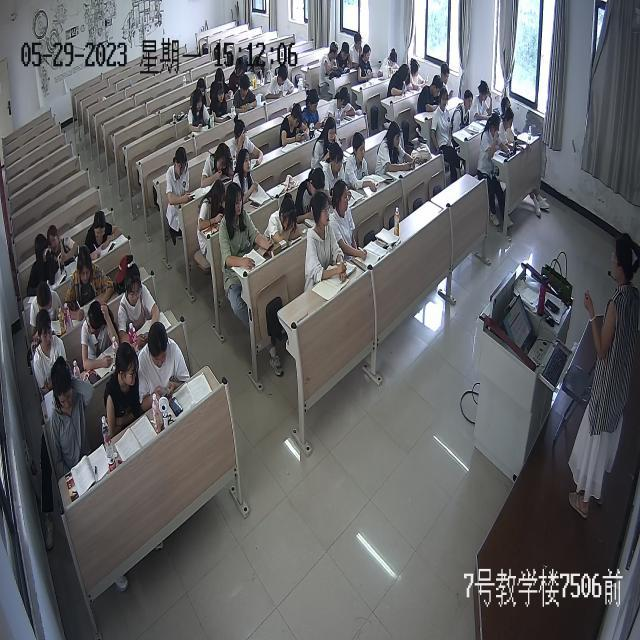distracted: (47, 361, 97, 470), (105, 342, 141, 438), (82, 301, 120, 371), (27, 234, 61, 292), (318, 42, 340, 80), (334, 40, 354, 77)
focused: (305, 193, 349, 283), (63, 248, 117, 319), (116, 262, 162, 342), (32, 313, 71, 393), (328, 182, 366, 260), (227, 117, 266, 171), (28, 284, 66, 336), (299, 166, 332, 223), (84, 210, 123, 254), (346, 134, 376, 191), (233, 150, 263, 204), (198, 180, 228, 233), (322, 146, 350, 200), (313, 116, 341, 170), (414, 73, 446, 114), (431, 89, 454, 144), (264, 66, 296, 101), (231, 79, 261, 115), (210, 82, 235, 124), (482, 114, 507, 156), (449, 88, 475, 126), (473, 81, 495, 122), (498, 109, 518, 152), (387, 63, 411, 96), (379, 47, 401, 81), (358, 44, 377, 82), (438, 62, 456, 102), (349, 31, 366, 68), (248, 58, 268, 88), (230, 58, 248, 87)
sleep: (263, 194, 303, 247)
using_phone: (218, 183, 276, 271), (136, 324, 190, 410), (377, 122, 416, 175), (166, 146, 197, 207), (47, 225, 81, 277), (201, 145, 236, 190), (280, 104, 314, 146), (328, 88, 359, 126), (188, 90, 216, 132), (303, 90, 329, 134), (408, 58, 431, 94), (212, 68, 234, 101)
